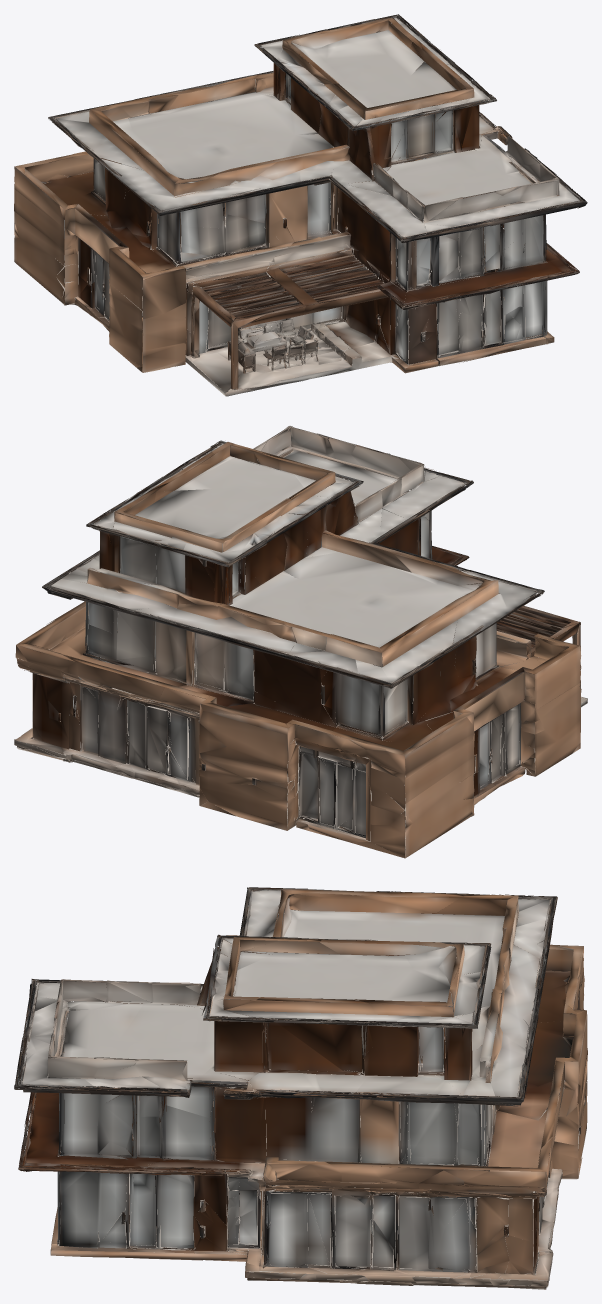
The model's file is villa.glb.
The picture shows the model from 3 angles, top to bottom: view 1: azimuth 30°, elevation 25°; view 2: azimuth 150°, elevation 25°; view 3: azimuth 270°, elevation 25°; orthographic projection. The views are drawn at different scales.
Parts seen in each view (by area): view 1: LO.001; view 2: LO.001; view 3: LO.001.
Part boxes in pixels (x1=…): LO.001: x1=14, y1=14, x2=587, y2=396; LO.001: x1=14, y1=426, x2=587, y2=858; LO.001: x1=14, y1=887, x2=587, y2=1289.
Size of the model in its own units: 1.91 by 0.9336 by 1.92.
Materials: 1 (1 with a texture image).
